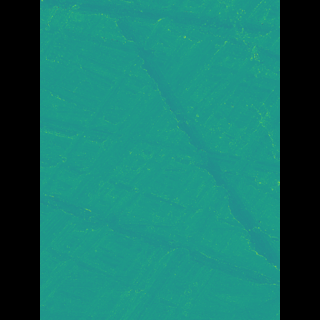Loch: (69, 0, 248, 320), (123, 7, 250, 271)
